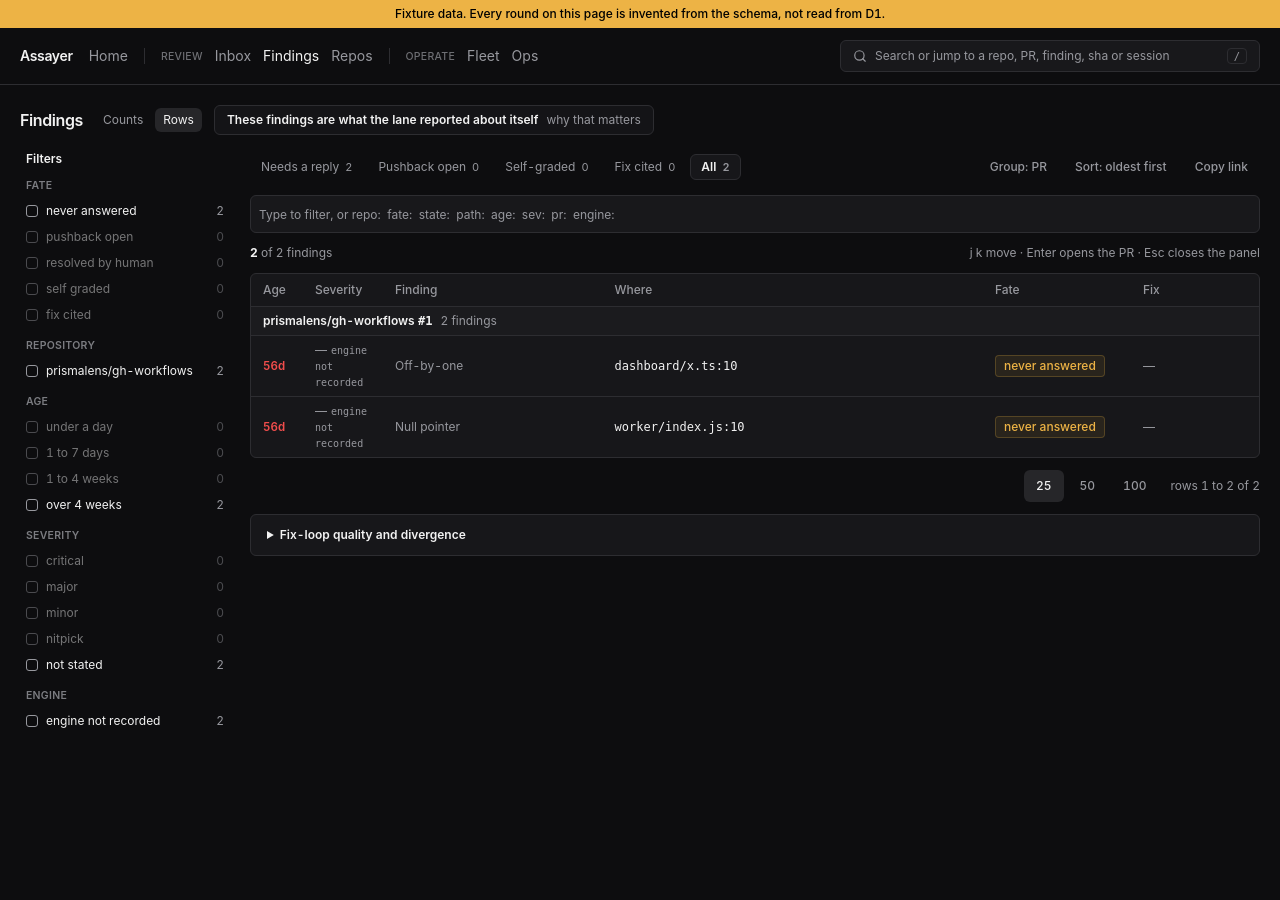
it: /findings: the inbox › searches across path, header, repository and PR number
This screenshot has width=1280, height=900.
Expected: the text "Null pointer" is shown, [395, 419, 460, 434]
Replace the text in the search field labelled "filter" with "Null pointer" at (755, 214), box [259, 200, 1251, 228]
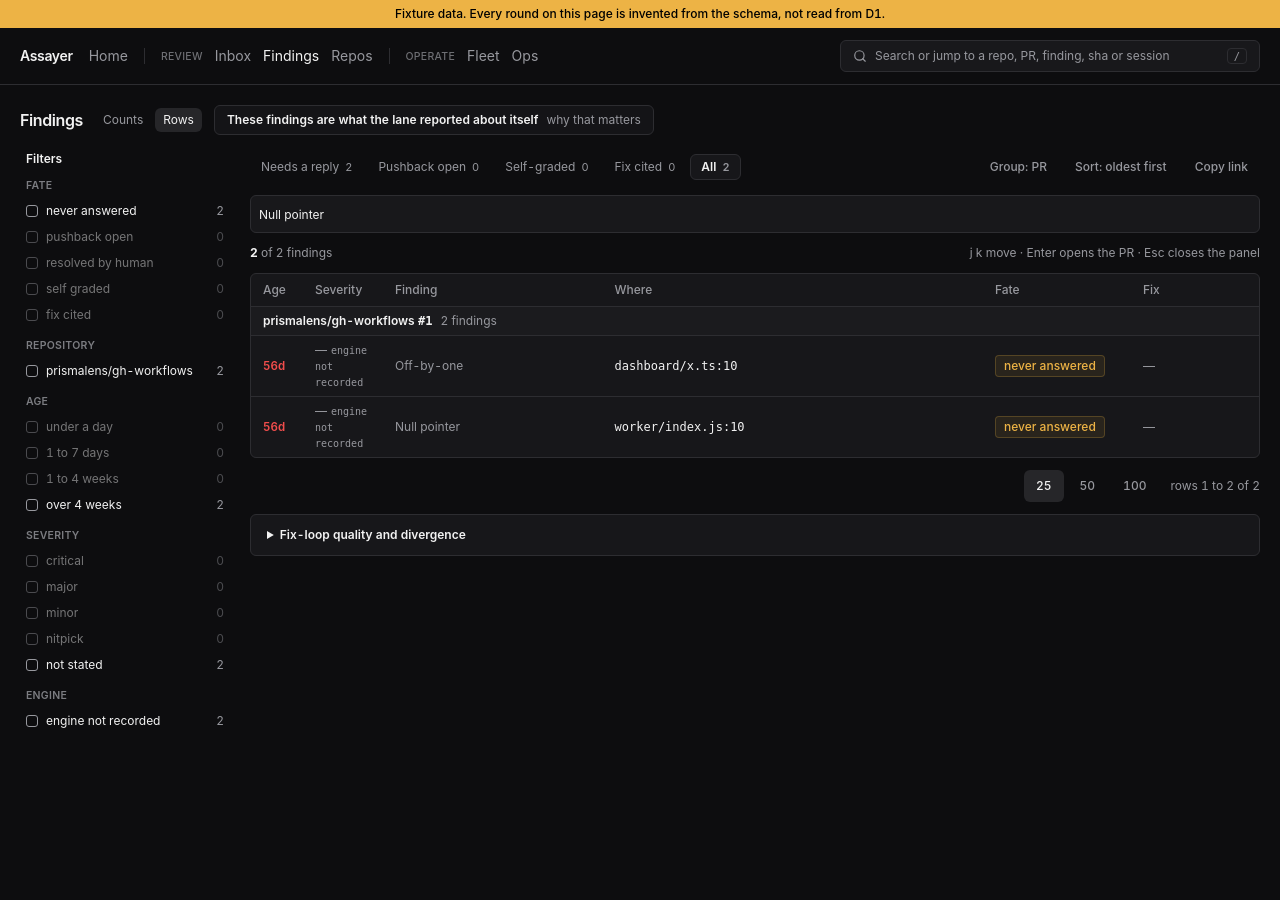
Press Enter in the search field named "filter", box [259, 200, 1251, 228]
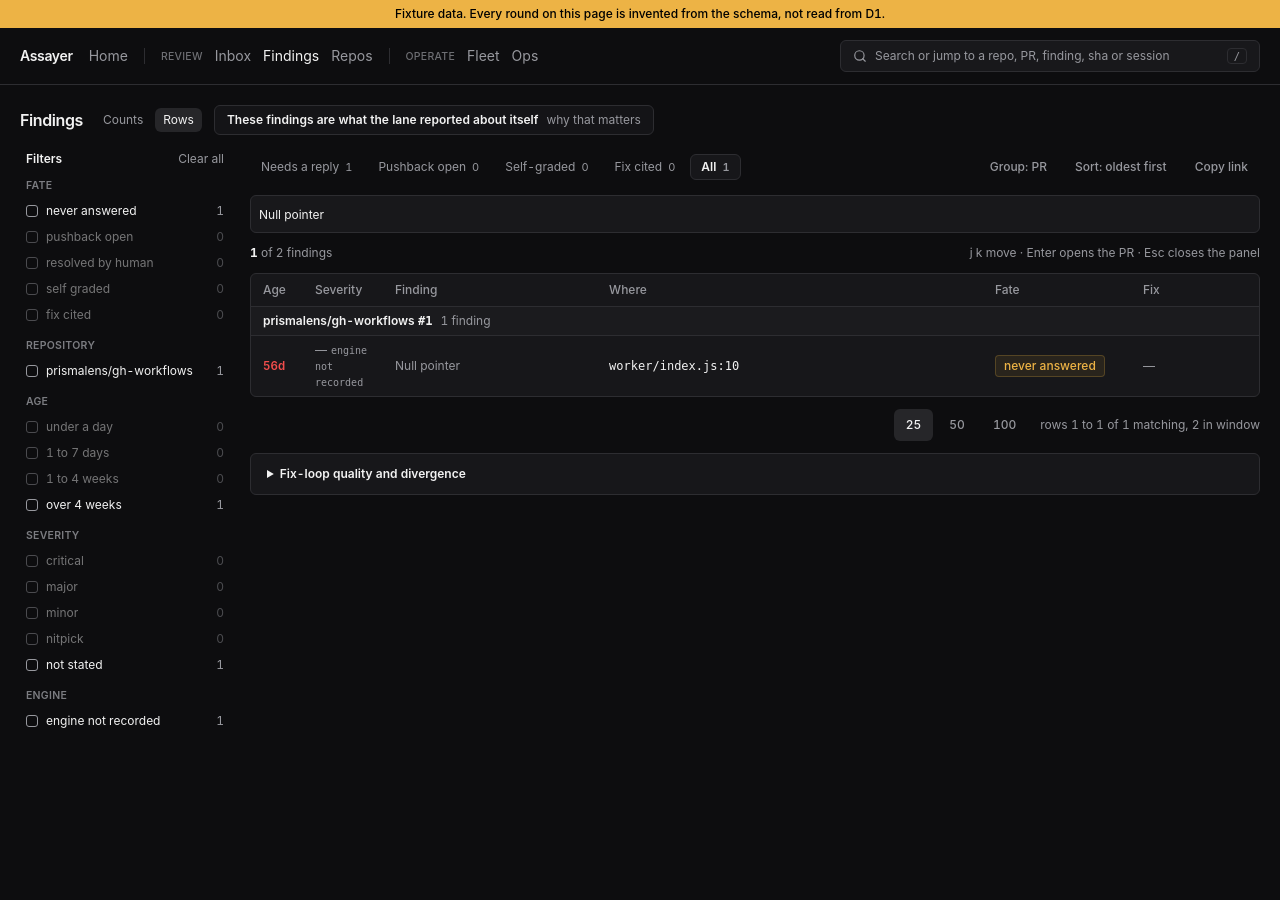
Expected: the text "Null pointer" is shown, [395, 358, 460, 373]
Expected: the text "Off-by-one" is gone
